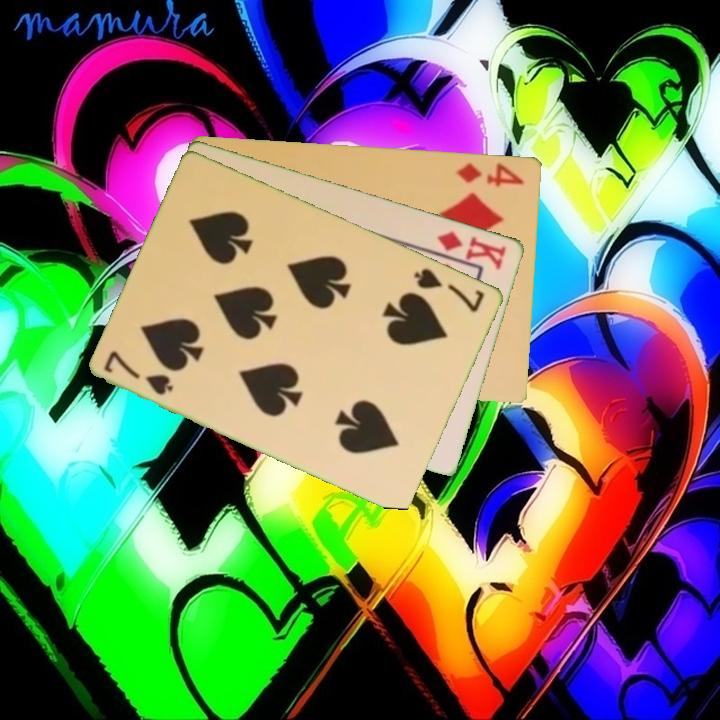4d: (453, 159, 527, 190)
7s: (410, 264, 488, 315), (100, 347, 177, 398)
Kd: (433, 226, 510, 272)
